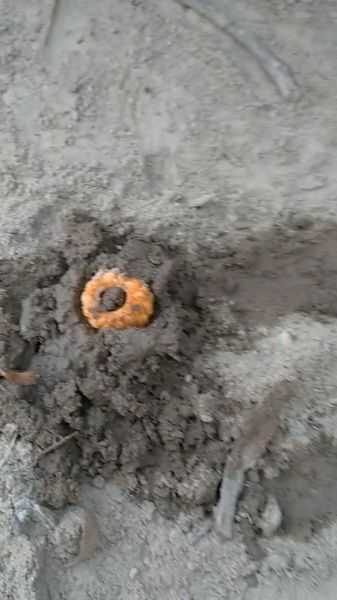eggs: (73, 265, 166, 342)
